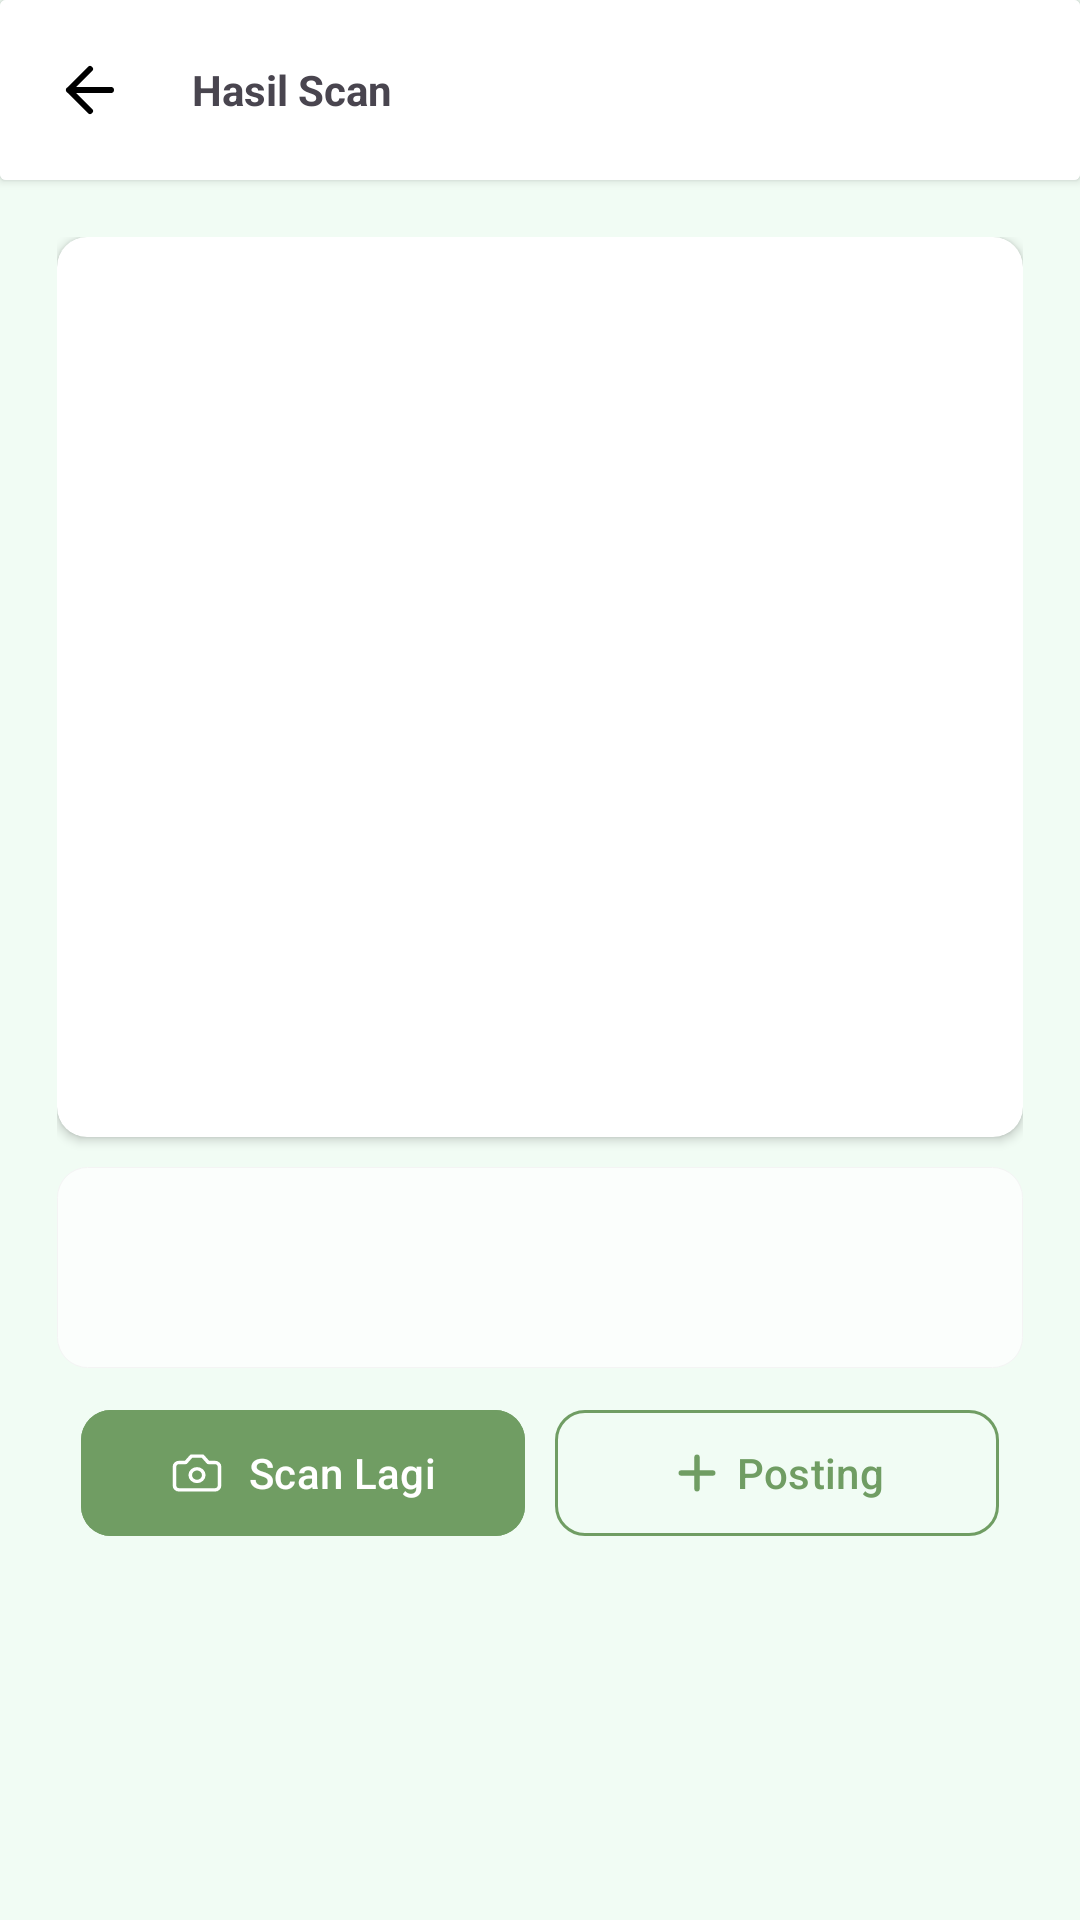

Where to tap for icons on this 1080 × 1920 app screen, as (x,y):
arrow left: (90,90)
